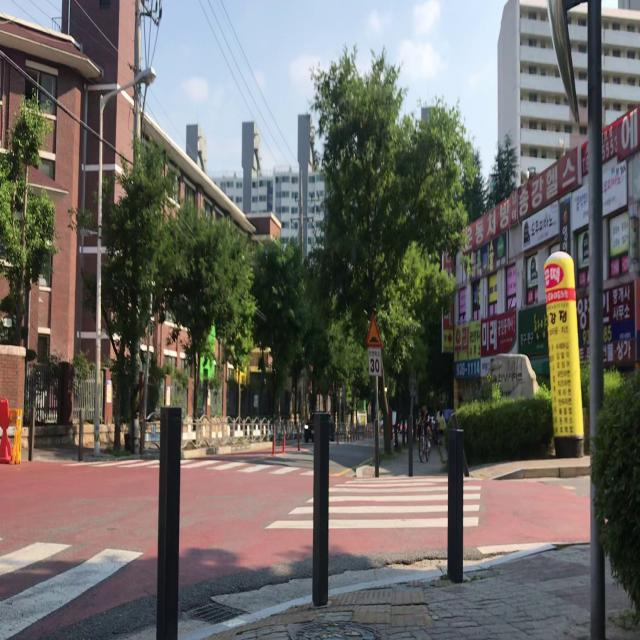횡단보도: (0, 537, 145, 639), (264, 476, 483, 531), (65, 450, 333, 476)
